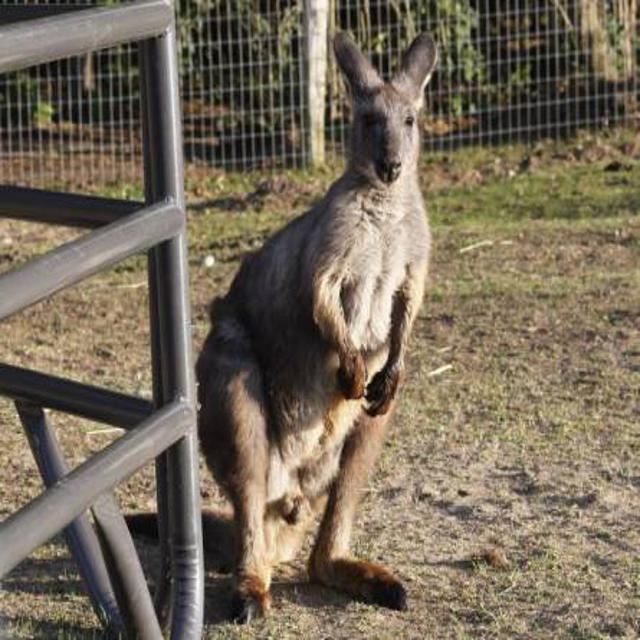kangaroo: (203, 34, 447, 601)
